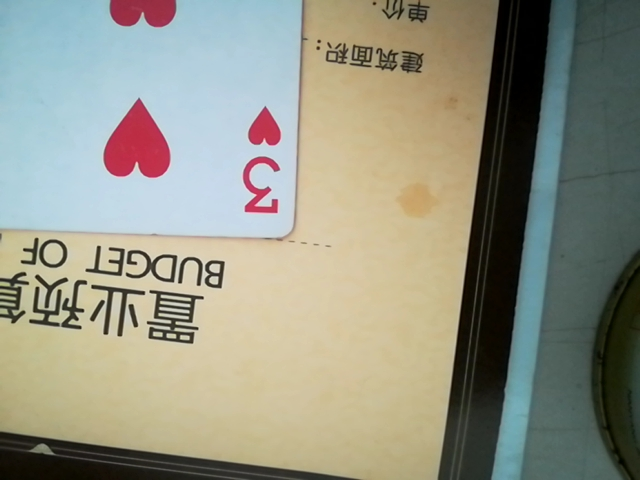hx 3: (3, 0, 303, 240)
